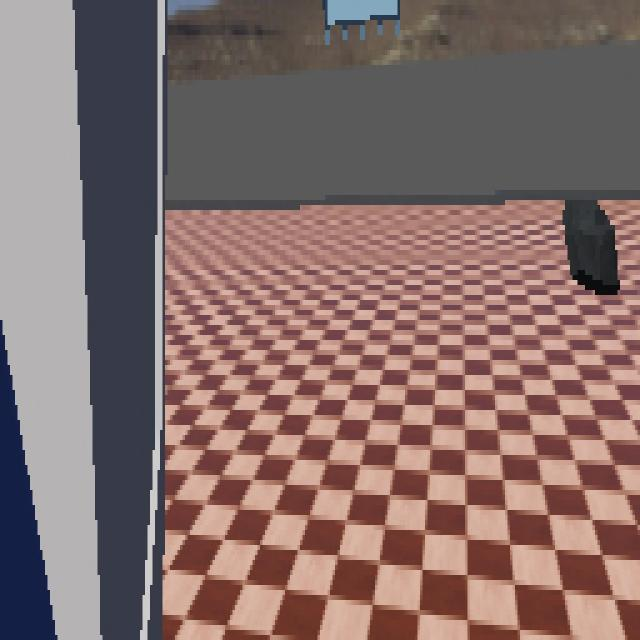rock: (563, 191, 619, 300)
